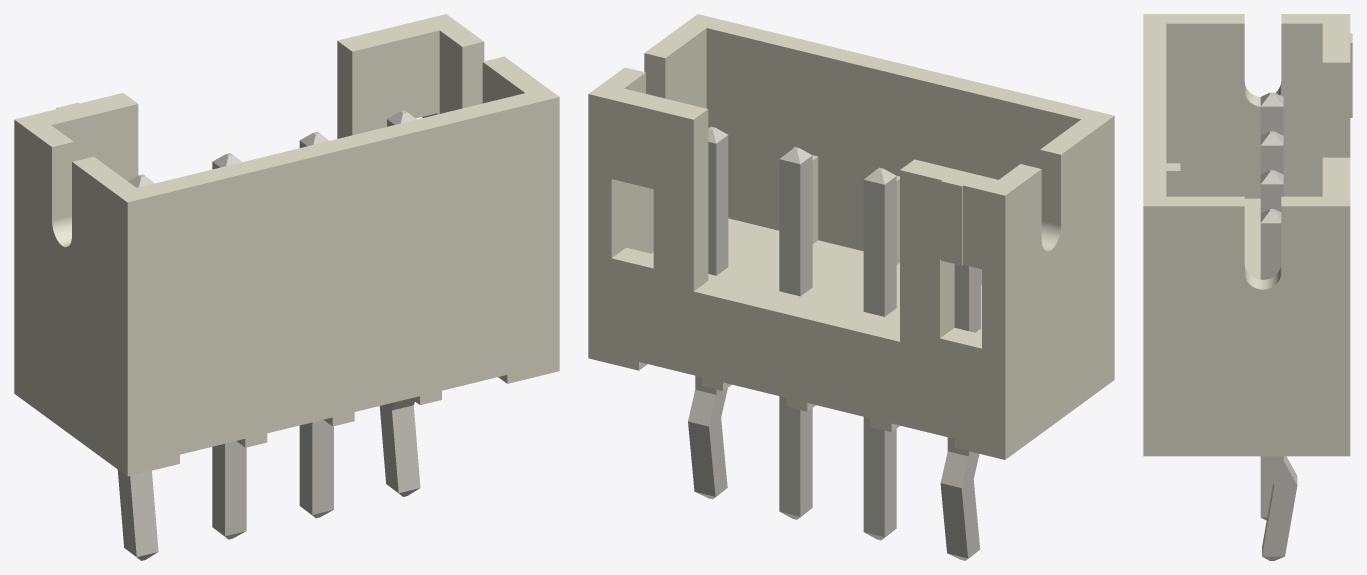
Rendered from JST_PH_B4B-PH-K_1x04_P2.00mm_Vertical.glb.
The picture shows the model from 3 angles, left to right: view 1: azimuth 30°, elevation 25°; view 2: azimuth 150°, elevation 25°; view 3: azimuth 270°, elevation 25°; orthographic projection. The views are drawn at different scales.
Visible parts, largest first — view 1: =>[0:1:1:3]; view 2: =>[0:1:1:3]; view 3: =>[0:1:1:3].
Boxes of the visible parts, <box> form: =>[0:1:1:3]: <box>14,14,559,560</box>; =>[0:1:1:3]: <box>588,14,1114,560</box>; =>[0:1:1:3]: <box>1143,14,1352,560</box>.
Bounding box in the file's own units: 0.0099 × 0.0094 × 0.00455.
